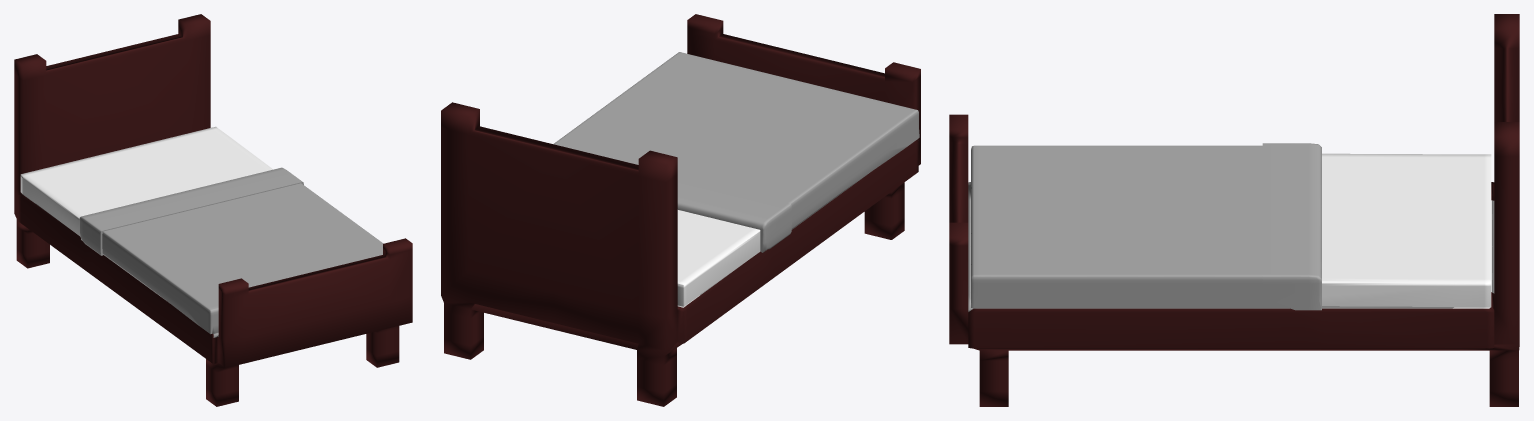
The model's file is EmptyBed.fbx.
3 views of the same model, side by side, from view 1: azimuth 30°, elevation 25°; view 2: azimuth 150°, elevation 25°; view 3: azimuth 270°, elevation 25° (orthographic). The views are drawn at different scales.
Parts seen in each view (by area): view 1: pCube2; view 2: pCube2; view 3: pCube2.
Boxes of the visible parts, box(x1,y1,x2,y2) form: pCube2: box(14, 14, 412, 406); pCube2: box(441, 14, 920, 406); pCube2: box(949, 14, 1519, 406).
Size of the model in its own units: 119 by 113 by 215.
